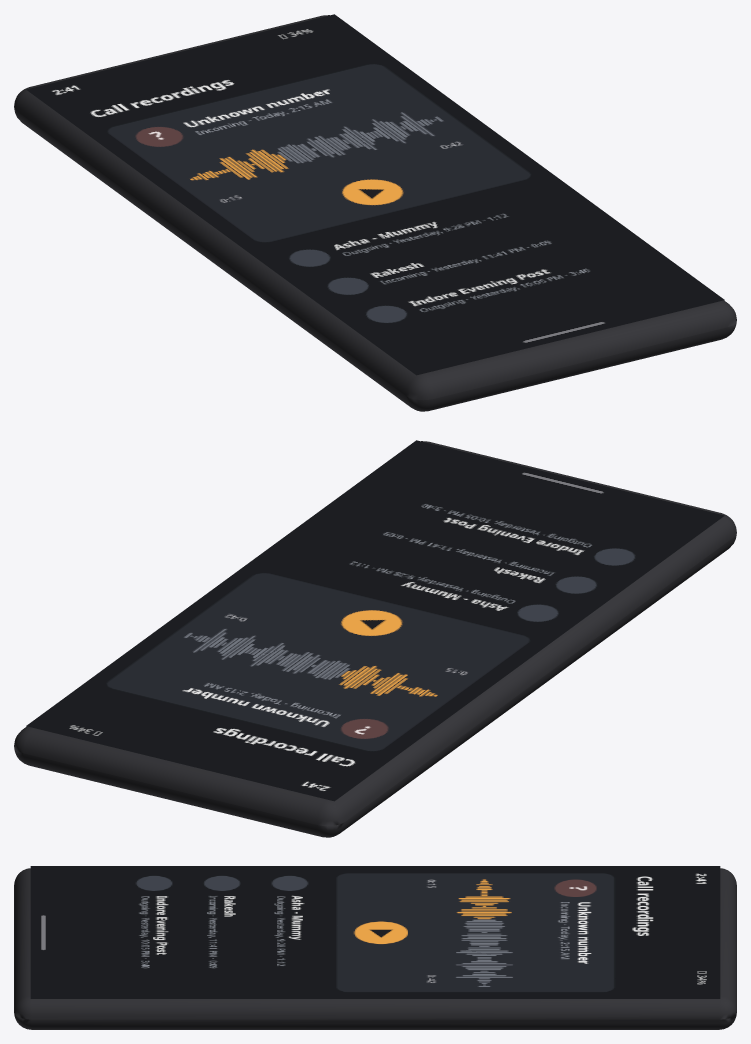
File: asha_phone.glb
3 views of the same model, one above another, from view 1: azimuth 30°, elevation 25°; view 2: azimuth 150°, elevation 25°; view 3: azimuth 270°, elevation 25° (orthographic). The views are drawn at different scales.
Parts seen in each view (by area): view 1: Plane, Cube; view 2: Plane, Cube; view 3: Plane, Cube.
Boxes of the visible parts, x1,y1,x2,y2 form: Plane: (26, 14, 724, 375); Cube: (14, 15, 736, 411); Plane: (26, 440, 724, 801); Cube: (14, 441, 736, 837); Plane: (30, 866, 720, 998); Cube: (14, 868, 736, 1029).
Size of the model in its own units: 0.075 by 0.00805 by 0.162.
Materials: 2 (1 with a texture image).
